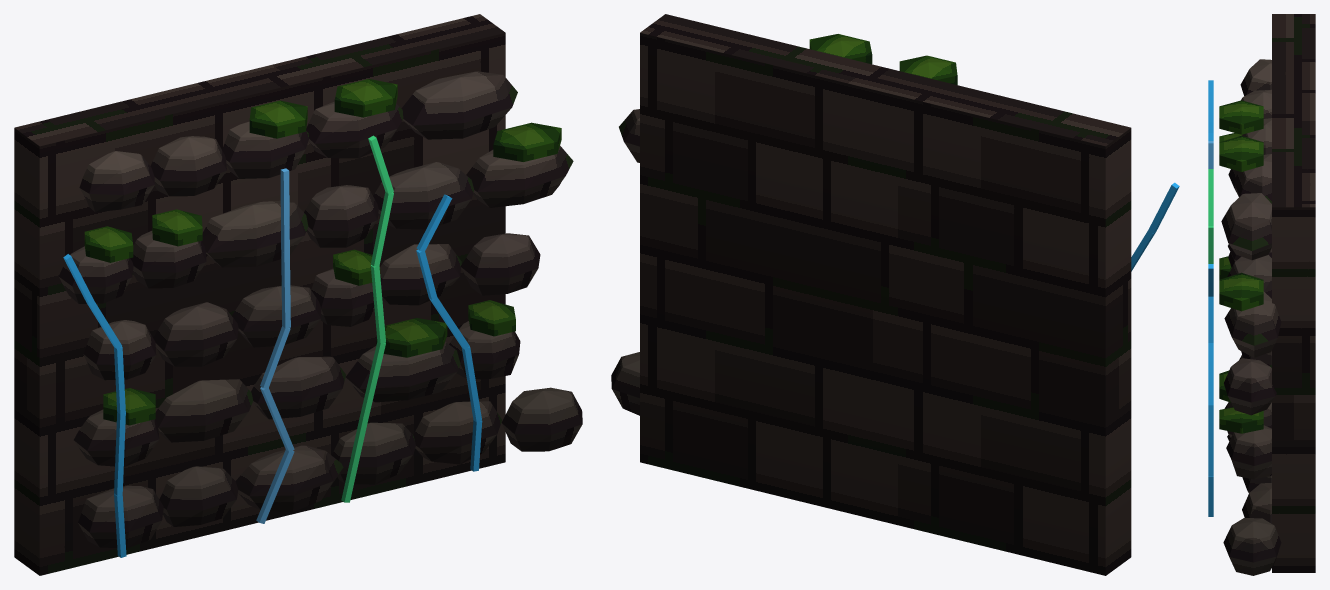
Rendered from vh_wall.glb.
The picture shows the model from 3 angles, left to right: view 1: azimuth 30°, elevation 25°; view 2: azimuth 150°, elevation 25°; view 3: azimuth 270°, elevation 25°; orthographic projection. The views are drawn at different scales.
Parts seen in each view (by area): view 1: vh_wall; view 2: vh_wall; view 3: vh_wall.
Boxes of the visible parts, x1=… form: vh_wall: x1=14, y1=14, x2=582, y2=575; vh_wall: x1=611, y1=14, x2=1179, y2=575; vh_wall: x1=1208, y1=14, x2=1315, y2=575.
Size of the model in its own units: 4.89 by 3.7 by 0.985.
Materials: 3 (2 with a texture image).
